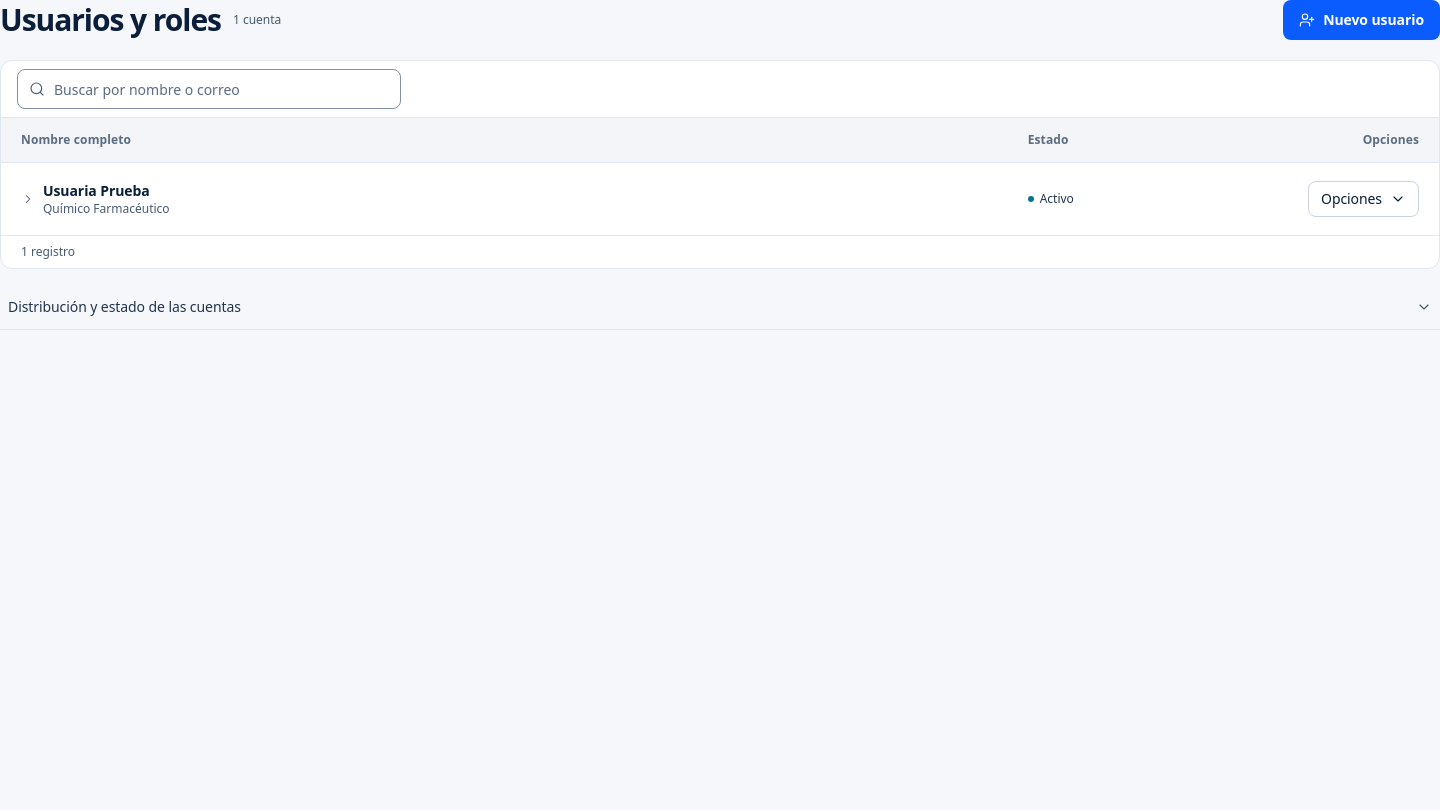
Scenario: UsuariosPage (HU-41, HU-45, RF-17) › valida la política de contraseña antes de enviar
Click the button "Nuevo usuario" at (1362, 20), box left=1283, top=0, right=1439, bottom=40
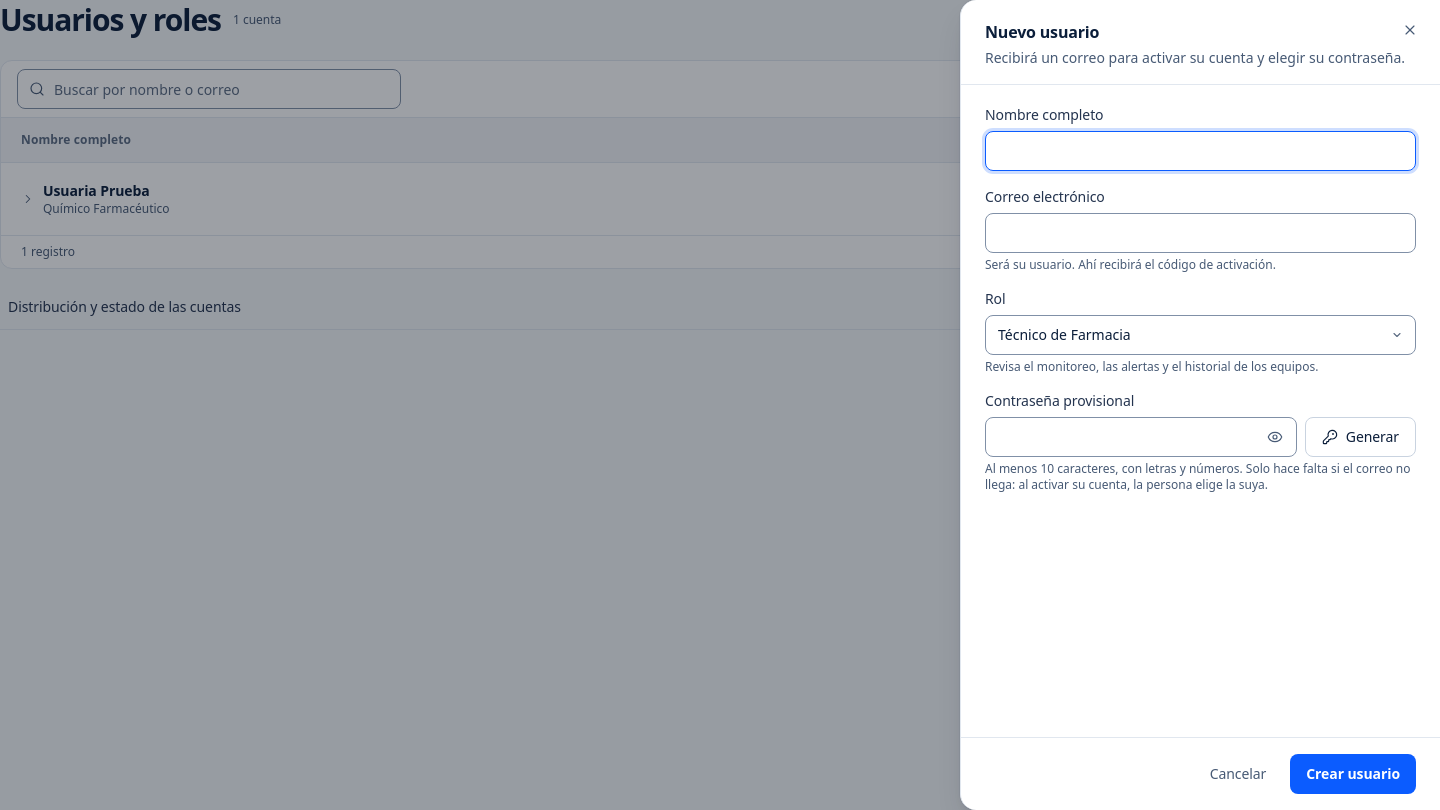
Type "Ana Prueba" into the field labelled "Nombre completo" at (1200, 151), box left=985, top=131, right=1416, bottom=171
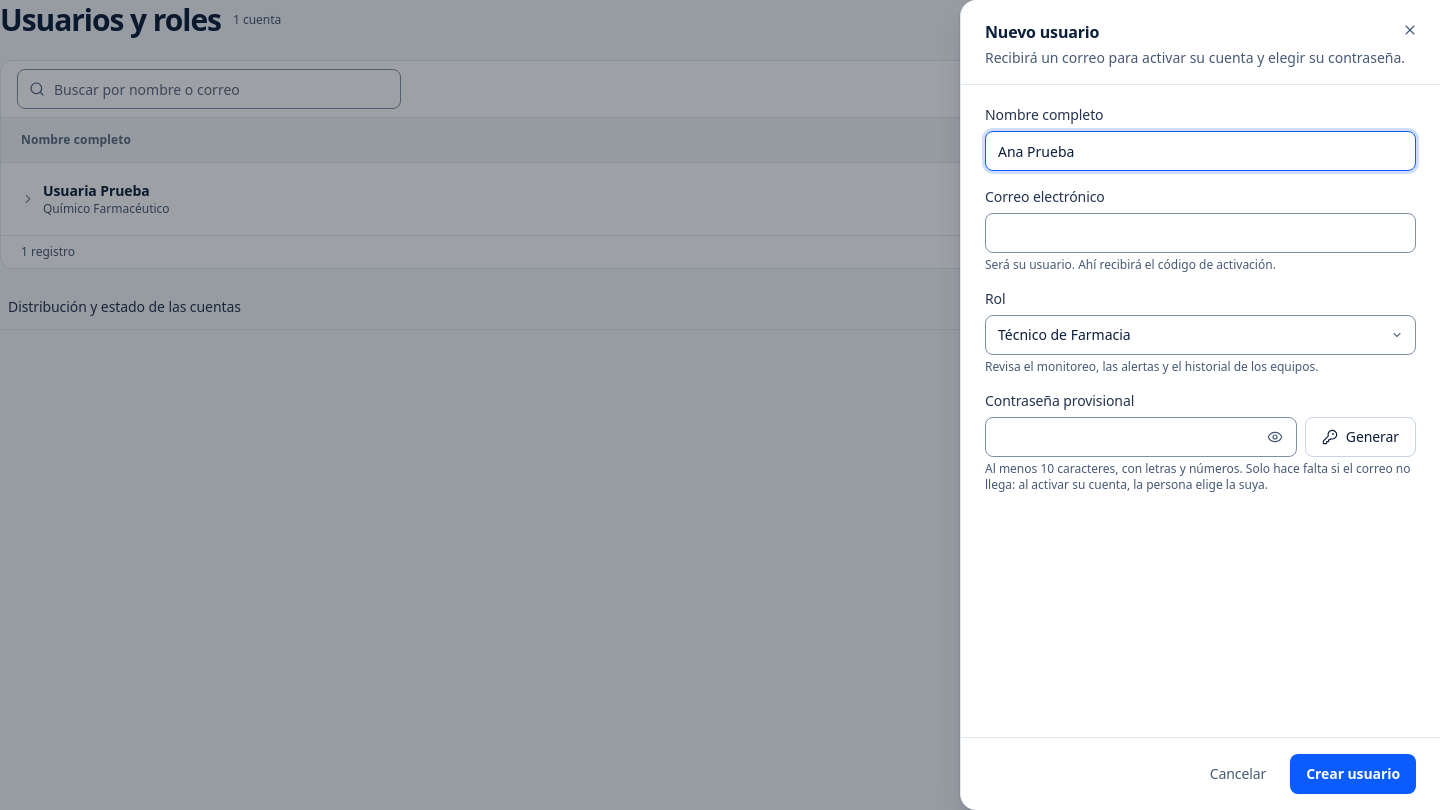
Type "ana@prueba.pe" into the field labelled "Correo electrónico" at (1200, 233), box left=985, top=213, right=1416, bottom=253
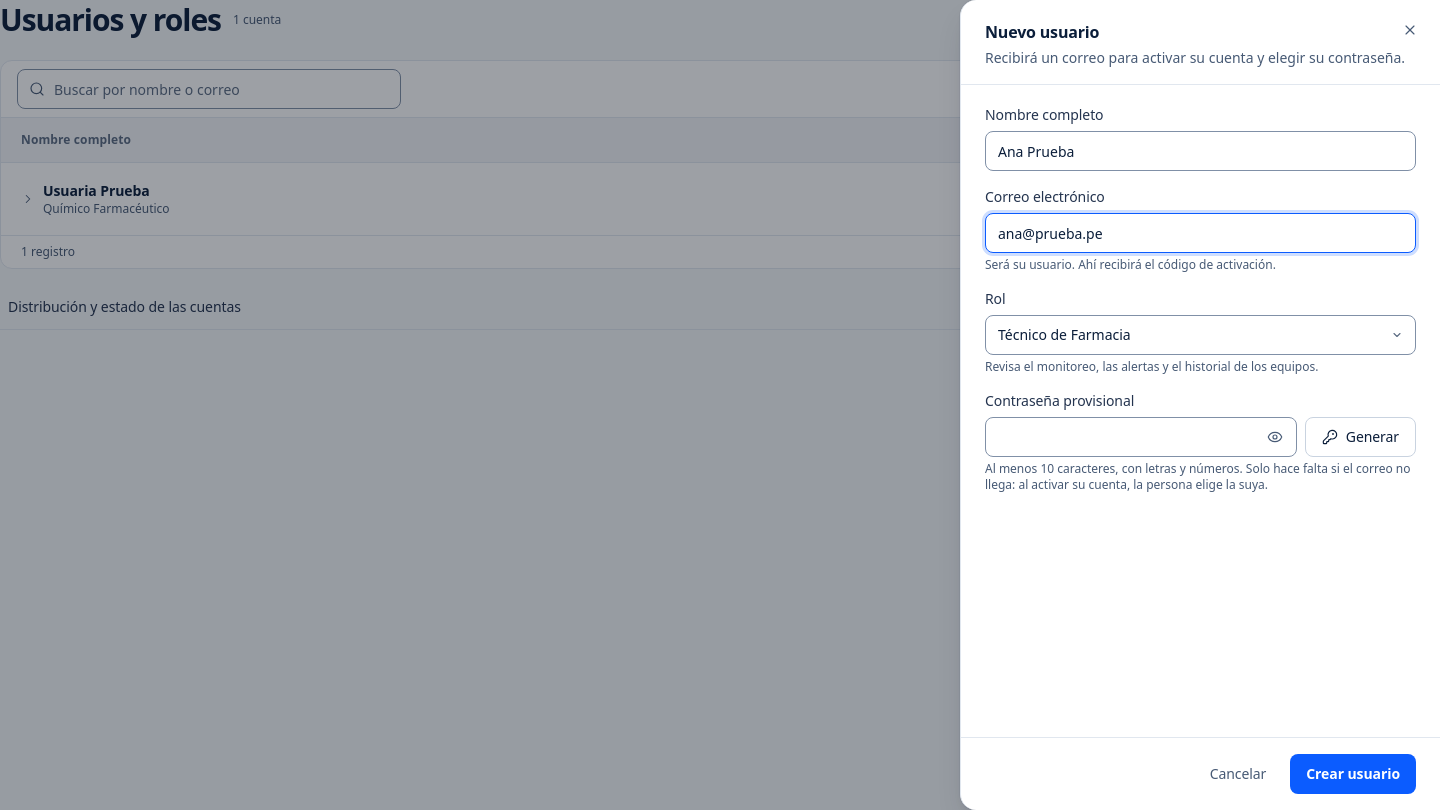
Type "corta1" into the password field labelled "Contraseña provisional" at (1141, 437), box left=985, top=417, right=1297, bottom=457
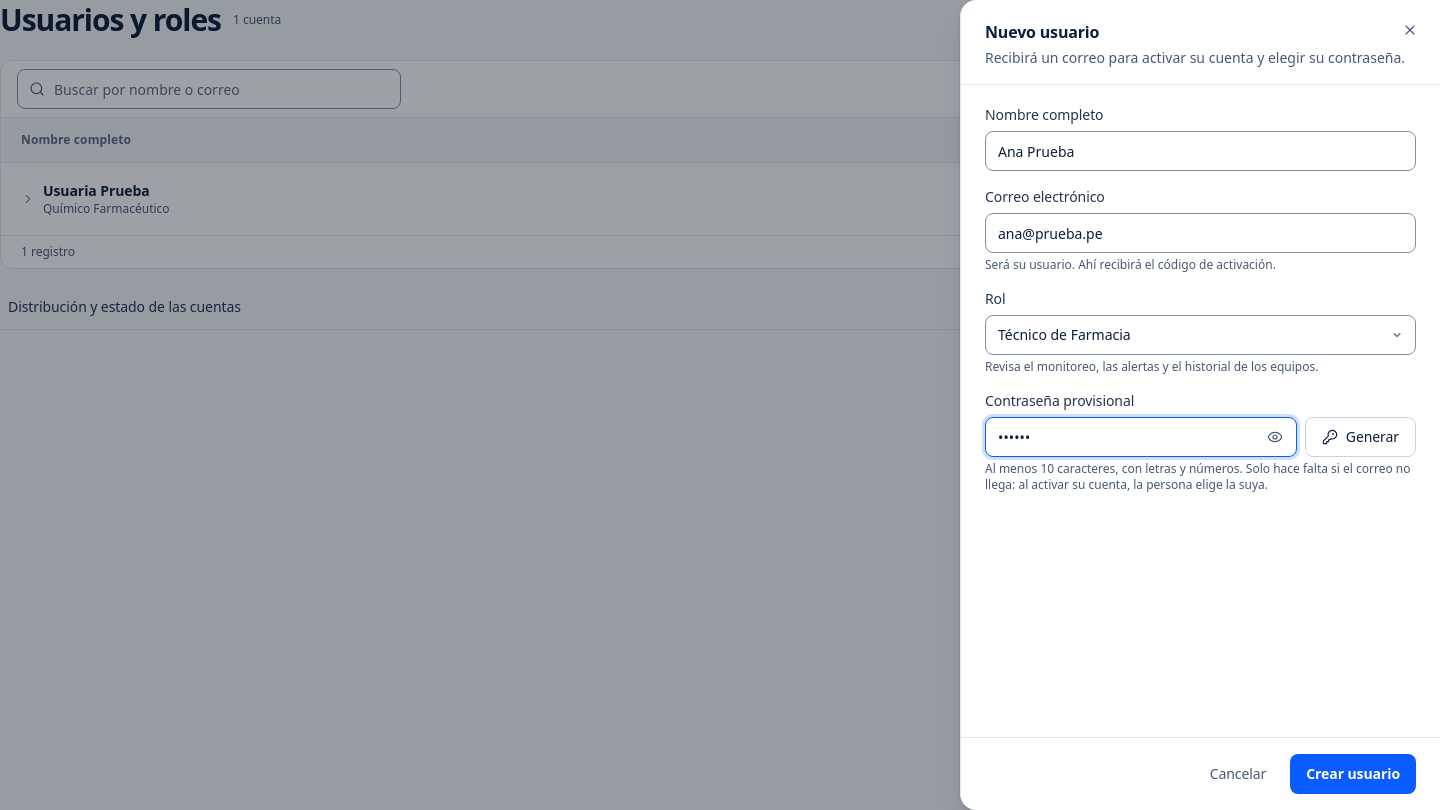
Click the button "Crear usuario" at (1353, 774), box left=1290, top=754, right=1416, bottom=794
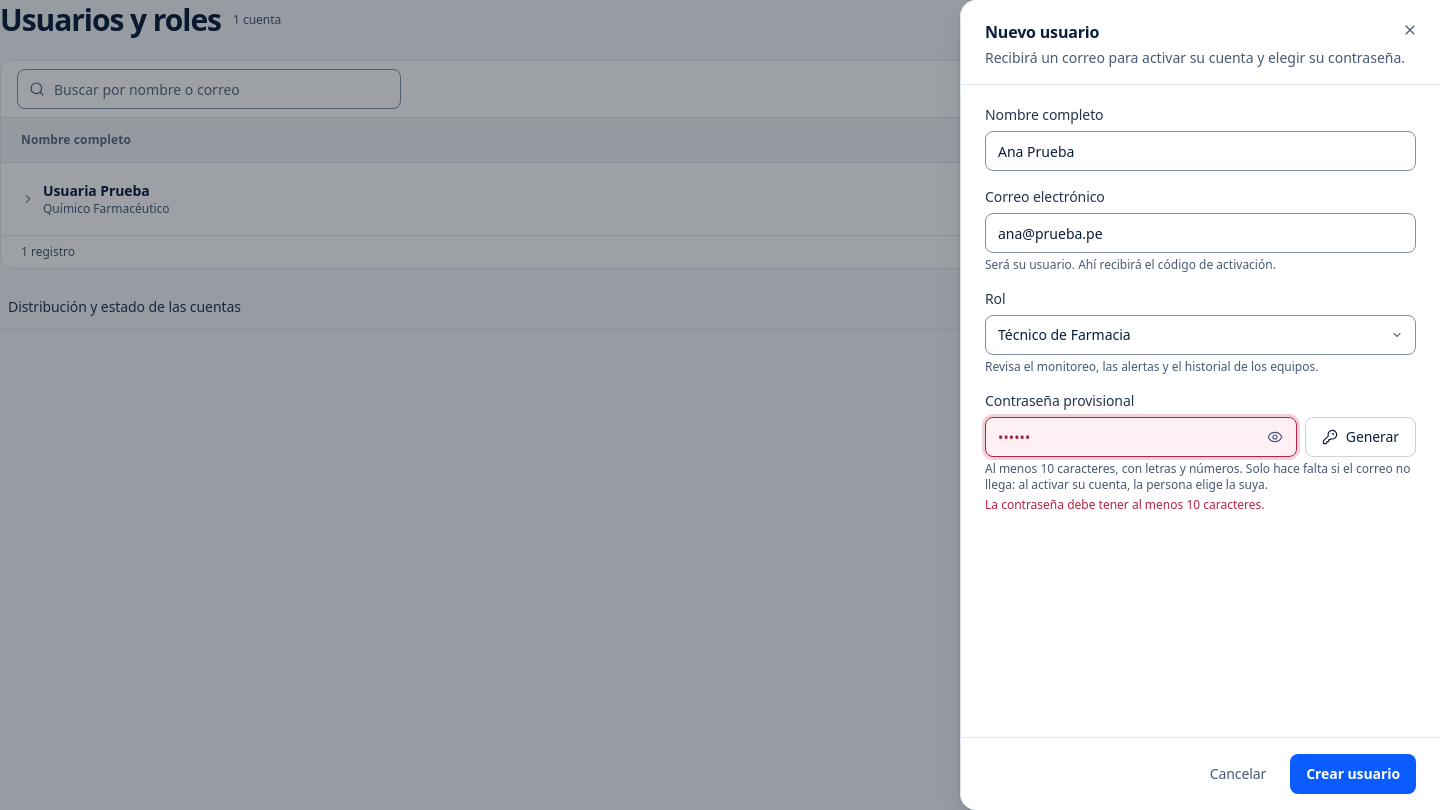
Expected: the text "La contraseña debe tener al menos 10 caracteres." is shown, left=985, top=496, right=1264, bottom=513
